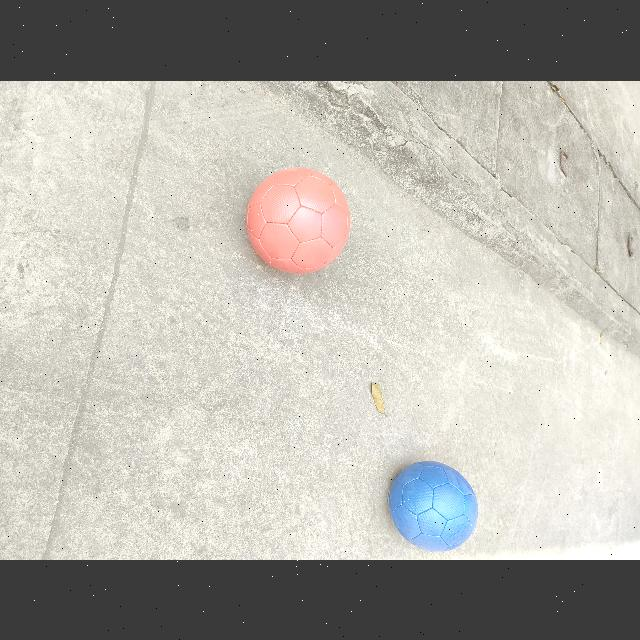B: (385, 460, 477, 553)
R: (243, 166, 349, 275)
